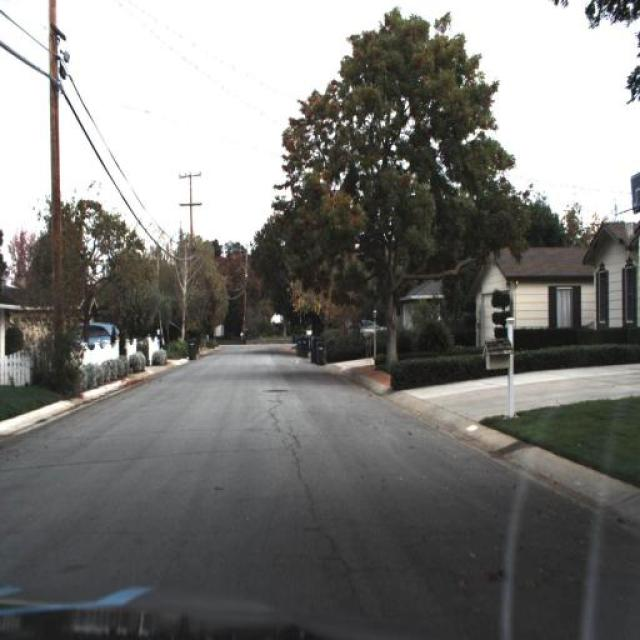car: (65, 316, 135, 352), (340, 314, 390, 352)
